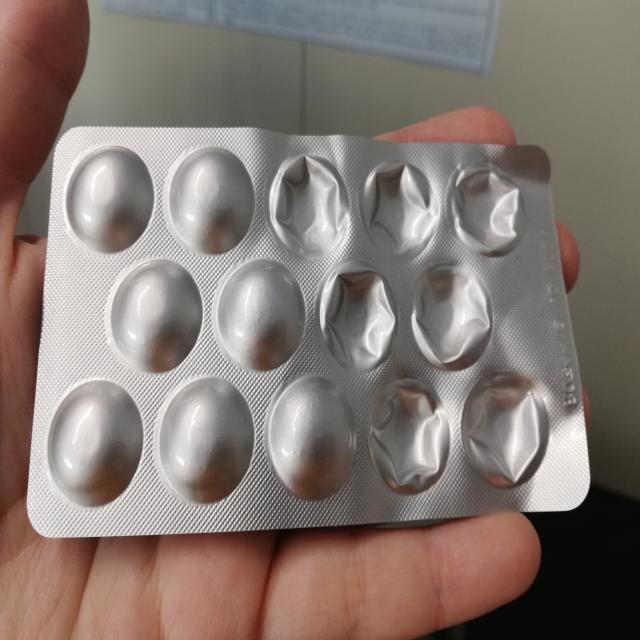Empty: (459, 372, 552, 490), (366, 375, 452, 496), (268, 146, 353, 261), (408, 262, 495, 372), (316, 262, 398, 374), (359, 156, 442, 261), (445, 156, 529, 256)
Pill: (47, 376, 145, 511), (155, 377, 256, 506), (266, 372, 361, 502), (109, 255, 204, 374), (65, 140, 157, 256), (164, 144, 257, 257), (218, 258, 307, 374)
